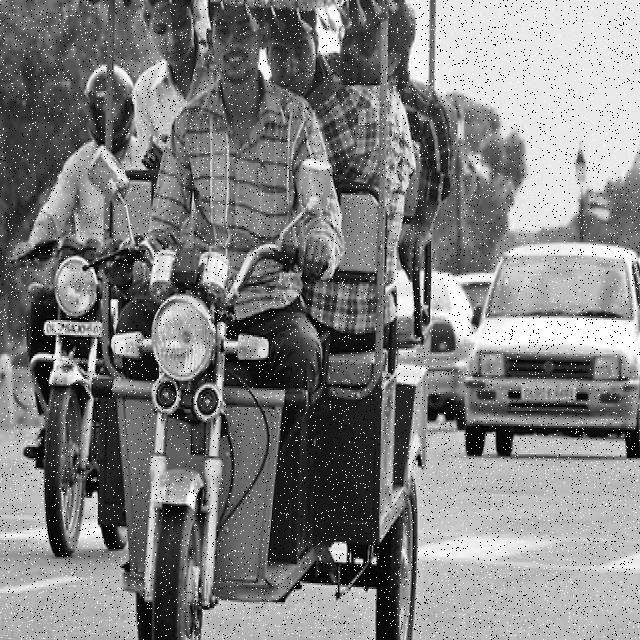Toto: (113, 0, 450, 640)
